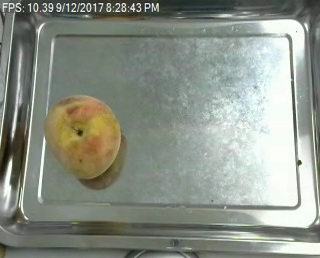Peach: (45, 94, 122, 180)
